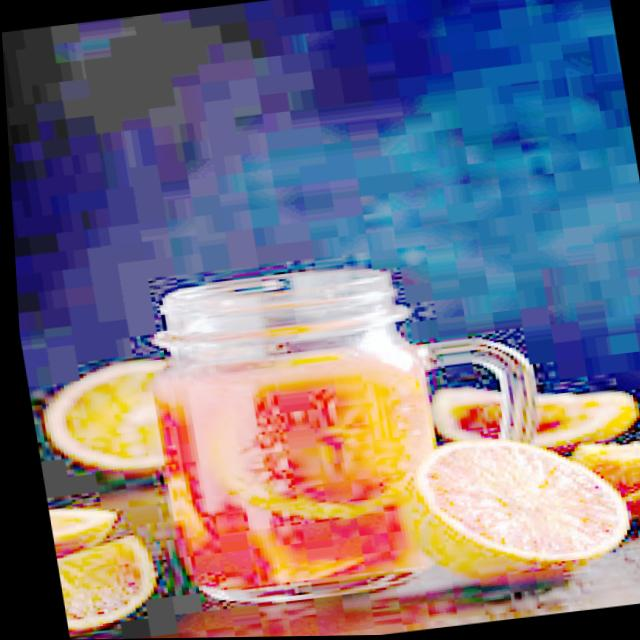drink: (124, 257, 472, 623)
